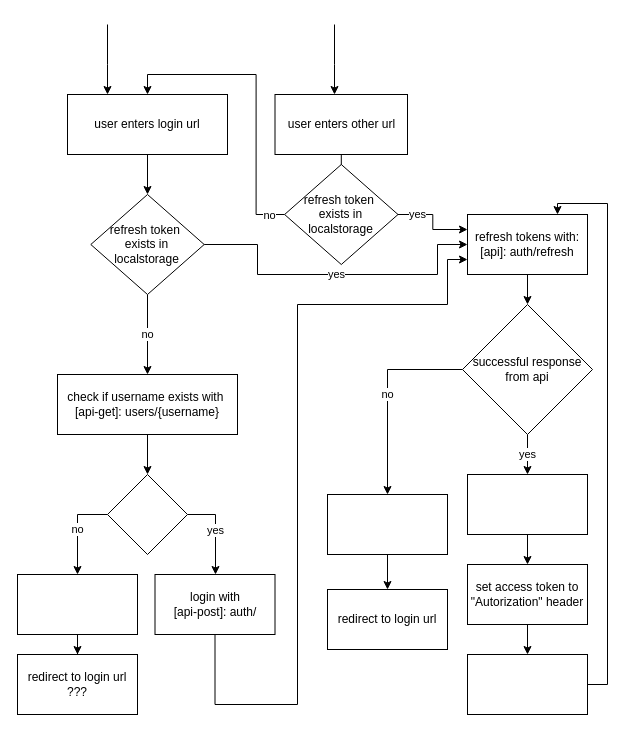
The diagram is 633 pixels wide and 732 high, and some of its shapes have lost their labels. The shapes that lost their labels are listed below. From the top down, each one's centre as x and y in pixels, then its label:
At pixel 147 514: "user exists".
At pixel 387 524: "clear localstorage".
At pixel 527 504: "replace localstorage tokens".
At pixel 77 604: "create user with [api-post]: user/".
At pixel 527 684: "wait for 13 minutes".
